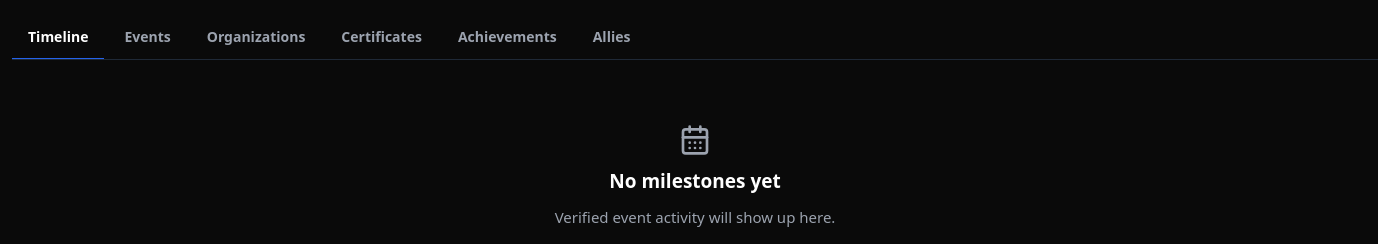
Test: ProfileSections — no control may advertise itself and go nowhere › renders an ally with no username as text, not as a link to #
The width and height of the screenshot is (1378, 244).
Step 1. Click the tab "Allies" → (612,38), box left=577, top=16, right=646, bottom=60
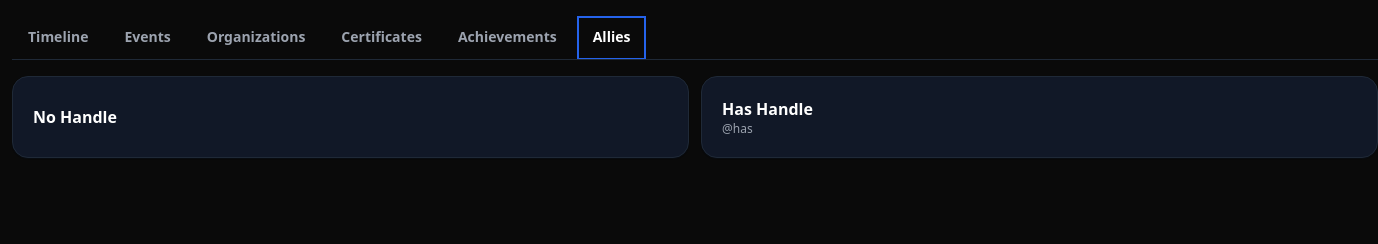
Now the text "No Handle" is shown, box left=33, top=105, right=117, bottom=129
